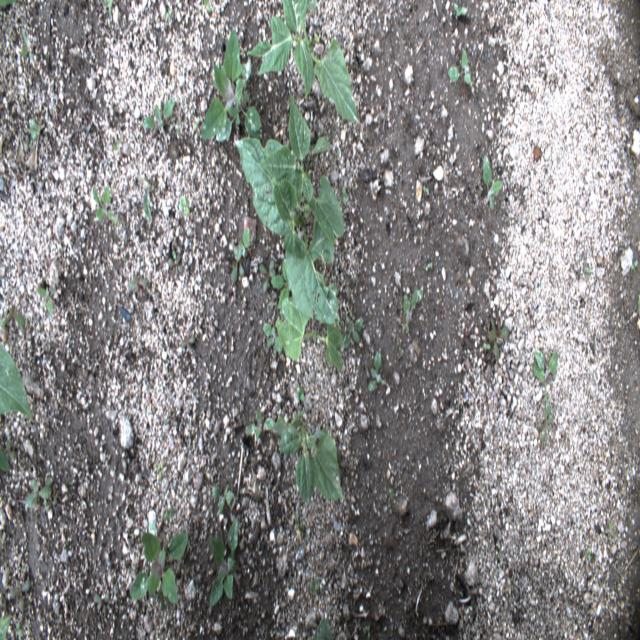crop: (234, 92, 346, 325), (246, 0, 359, 123), (271, 407, 344, 504), (276, 299, 344, 372), (0, 346, 34, 418), (313, 616, 333, 640)
weed: (200, 30, 261, 143), (130, 532, 189, 612), (210, 518, 238, 607), (531, 348, 558, 418), (230, 224, 251, 284), (92, 184, 120, 228), (482, 152, 503, 210), (26, 474, 58, 510), (489, 308, 509, 362), (142, 98, 175, 129), (402, 286, 424, 332), (246, 409, 275, 443), (270, 260, 290, 308), (212, 482, 236, 518), (448, 49, 471, 84), (368, 350, 387, 391), (10, 578, 31, 612), (0, 304, 26, 328), (35, 286, 57, 314), (342, 318, 362, 348), (0, 440, 17, 475), (259, 258, 276, 293), (536, 410, 553, 443), (264, 322, 282, 352), (94, 592, 110, 618), (128, 274, 149, 293), (28, 116, 42, 141), (181, 329, 195, 354), (142, 187, 151, 225), (0, 614, 12, 640), (178, 193, 189, 216), (154, 460, 164, 482), (310, 577, 320, 598), (102, 0, 113, 17), (582, 264, 592, 282), (454, 4, 468, 16), (362, 623, 372, 639), (202, 0, 212, 14), (297, 386, 305, 402), (586, 546, 592, 563), (16, 621, 22, 637), (608, 521, 614, 537), (630, 261, 638, 273), (165, 8, 172, 20), (423, 183, 429, 194), (172, 247, 176, 262), (424, 263, 430, 272), (483, 343, 490, 350)
